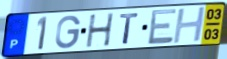1: (35, 16, 48, 52)
E: (147, 7, 179, 46)
G: (54, 15, 82, 51)
H: (172, 5, 208, 45), (85, 12, 116, 49)
T: (119, 12, 141, 45)
